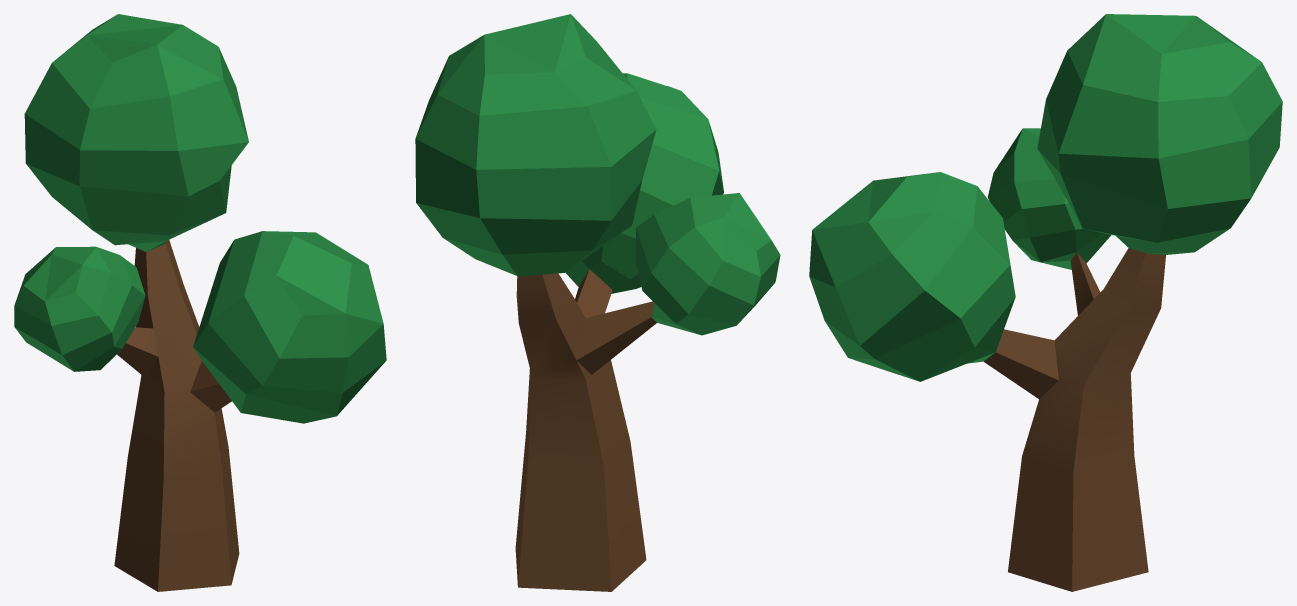
Rendered from TreeFBX.fbx.
3 renders of one model, left to right at view 1: azimuth 30°, elevation 25°; view 2: azimuth 150°, elevation 25°; view 3: azimuth 270°, elevation 25°, orthographic. The views are drawn at different scales.
Parts seen in each view (by area): view 1: Mesh; view 2: Mesh; view 3: Mesh.
Boxes of the visible parts, x1,y1,x2,y2 form: Mesh: (14,14,386,591); Mesh: (415,14,780,591); Mesh: (809,14,1282,591).
Size of the model in its own units: 6.37 by 11.1 by 8.76.
1 material, 1 textured.
